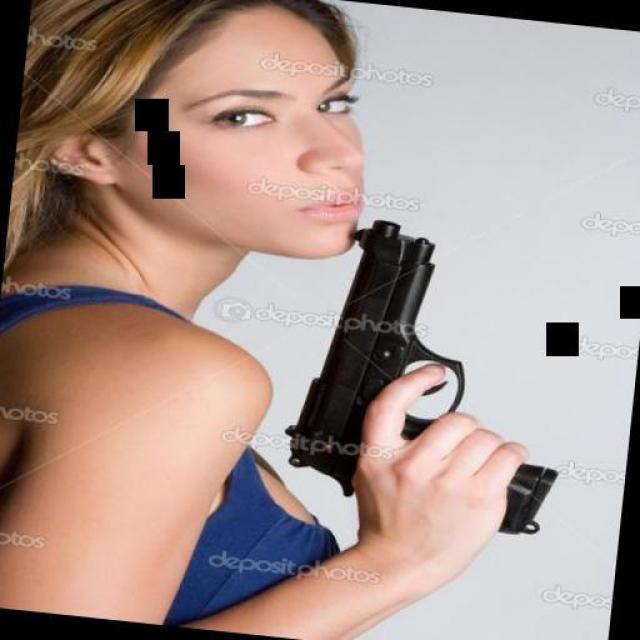gun: (278, 205, 592, 535)
